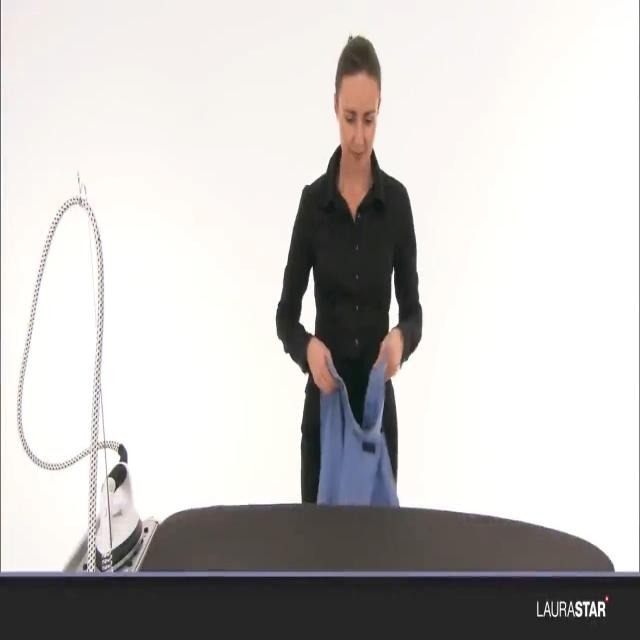shirt: (274, 141, 424, 379)
